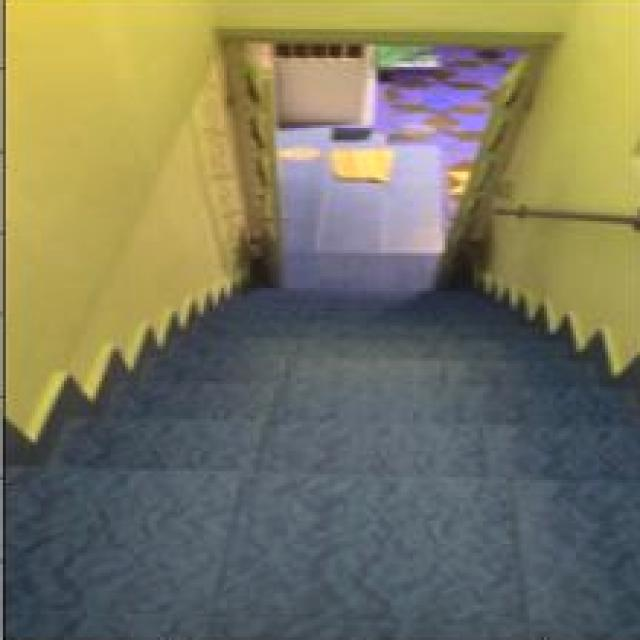downstair: (94, 318, 565, 560)
